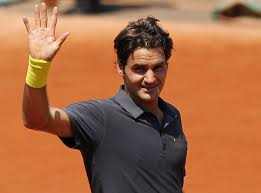palm: (21, 1, 72, 64)
